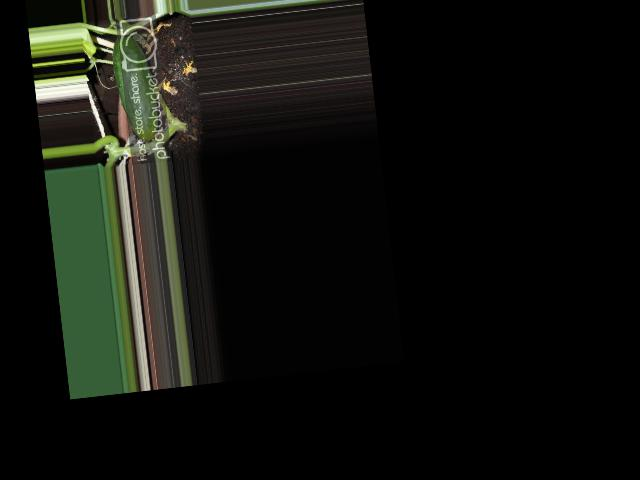cucumber: (110, 33, 161, 143)
